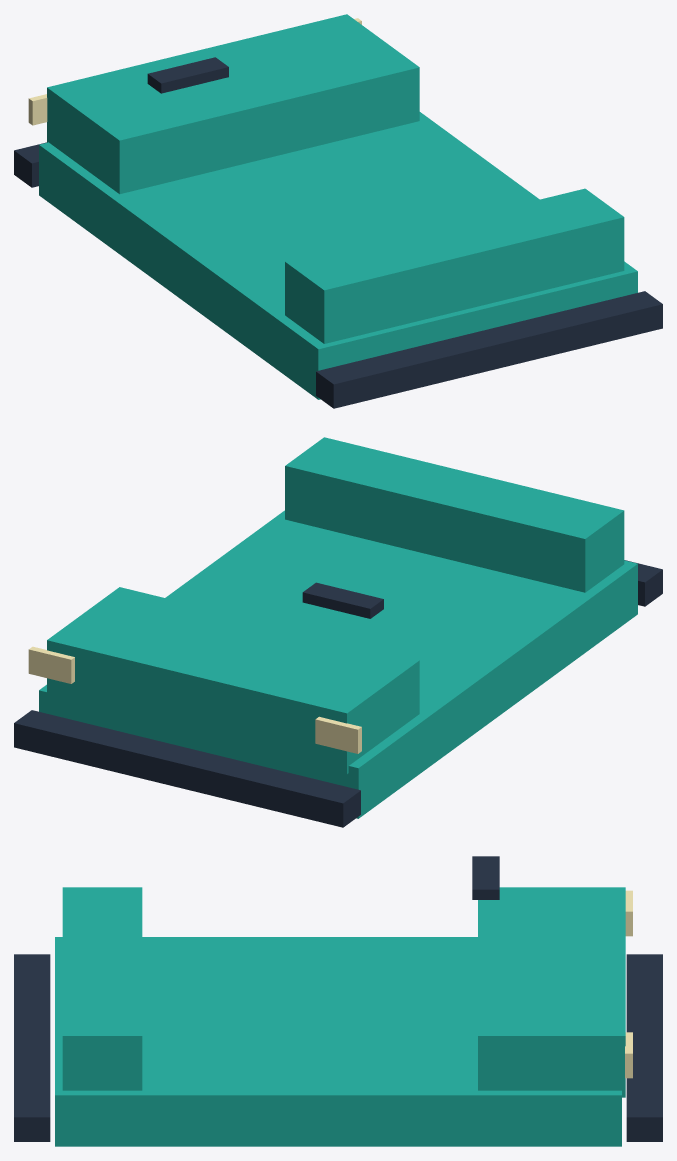
File: vehicle.glb
3 views of the same model, one above another, from view 1: azimuth 30°, elevation 25°; view 2: azimuth 150°, elevation 25°; view 3: azimuth 270°, elevation 25° (orthographic).
Visible parts, largest first — view 1: XRift_vehicle; view 2: XRift_vehicle; view 3: XRift_vehicle.
Part boxes in pixels (x1,y1,x2,y2): XRift_vehicle: [14, 14, 662, 408]; XRift_vehicle: [14, 437, 662, 827]; XRift_vehicle: [14, 856, 662, 1146].
Bounding box in the file's own units: 1.7 × 0.76 × 2.86.
